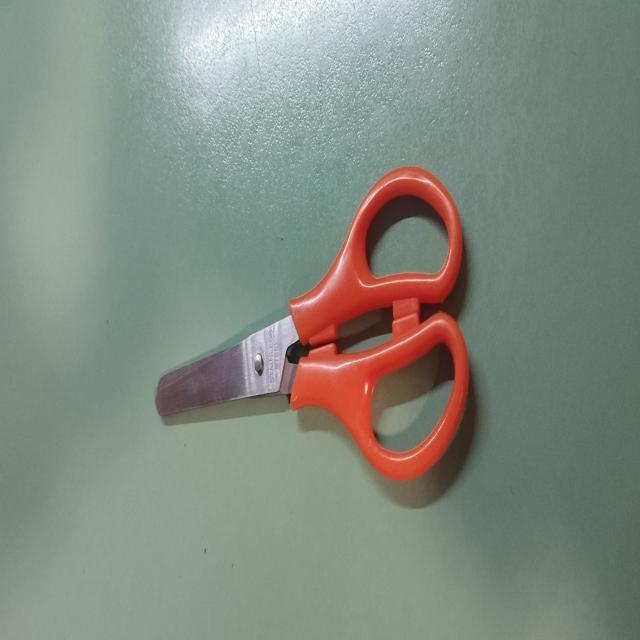tesoura: (151, 152, 480, 487)
